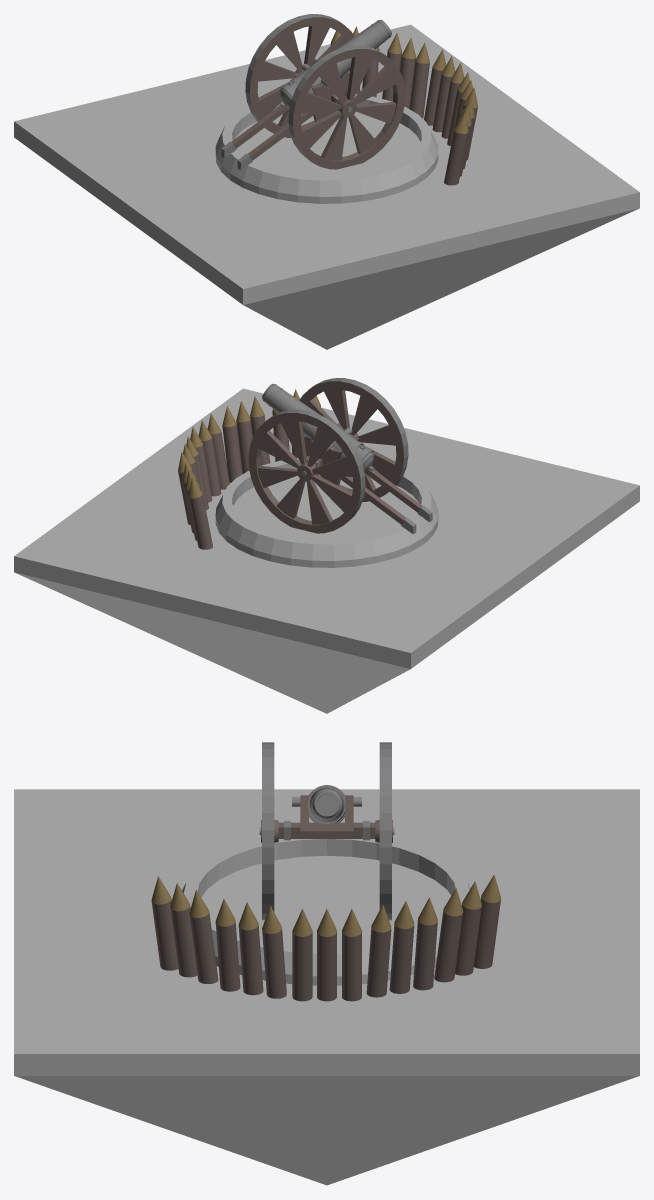
The model's file is Building Cannon T1.fbx.
3 renders of one model, top to bottom at view 1: azimuth 30°, elevation 25°; view 2: azimuth 150°, elevation 25°; view 3: azimuth 270°, elevation 25°, orthographic. The views are drawn at different scales.
Parts seen in each view (by area): view 1: Cannon T1; view 2: Cannon T1; view 3: Cannon T1.
Part boxes in pixels (left/top/right/bottom): Cannon T1: left=14, top=14, right=639, bottom=349; Cannon T1: left=14, top=378, right=639, bottom=713; Cannon T1: left=14, top=742, right=639, bottom=1185.
Bounding box in the file's own units: 1599 × 1222 × 1599.
